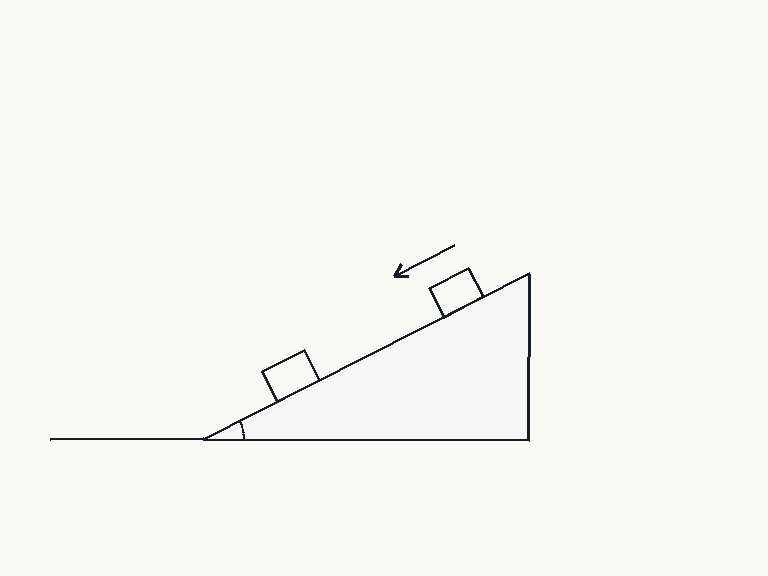block: (260, 348, 321, 404), (427, 266, 485, 319)
ramp: (202, 271, 531, 441)
